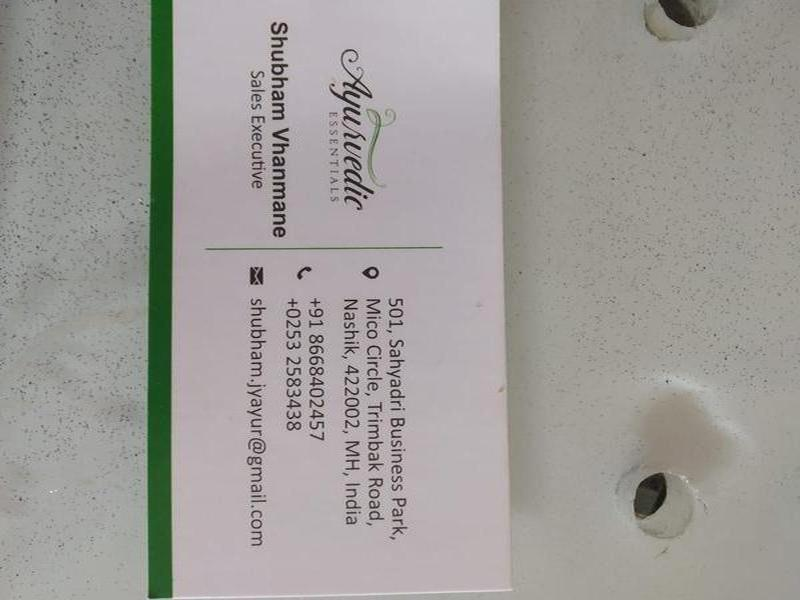card: (145, 1, 514, 596)
